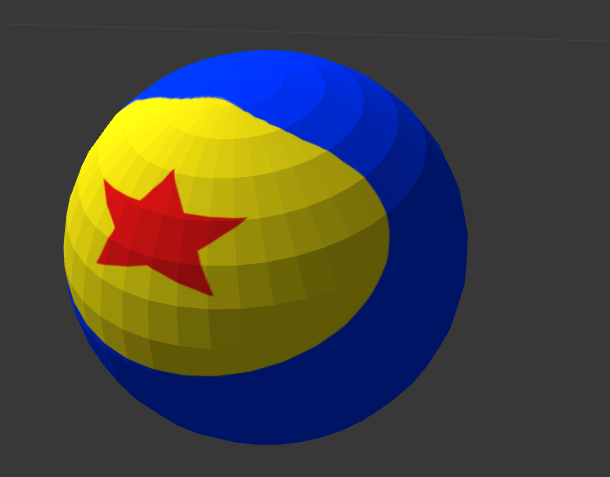toy story ball: (63, 48, 470, 446)
